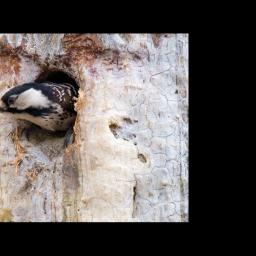Woodpecker: (0, 78, 76, 134)
